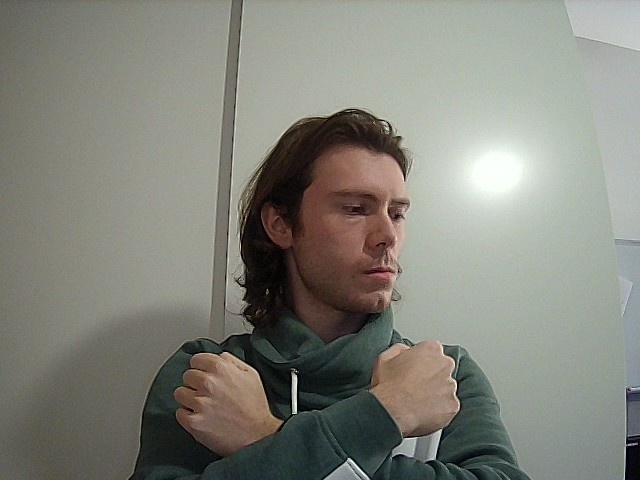del: (169, 332, 493, 480)
